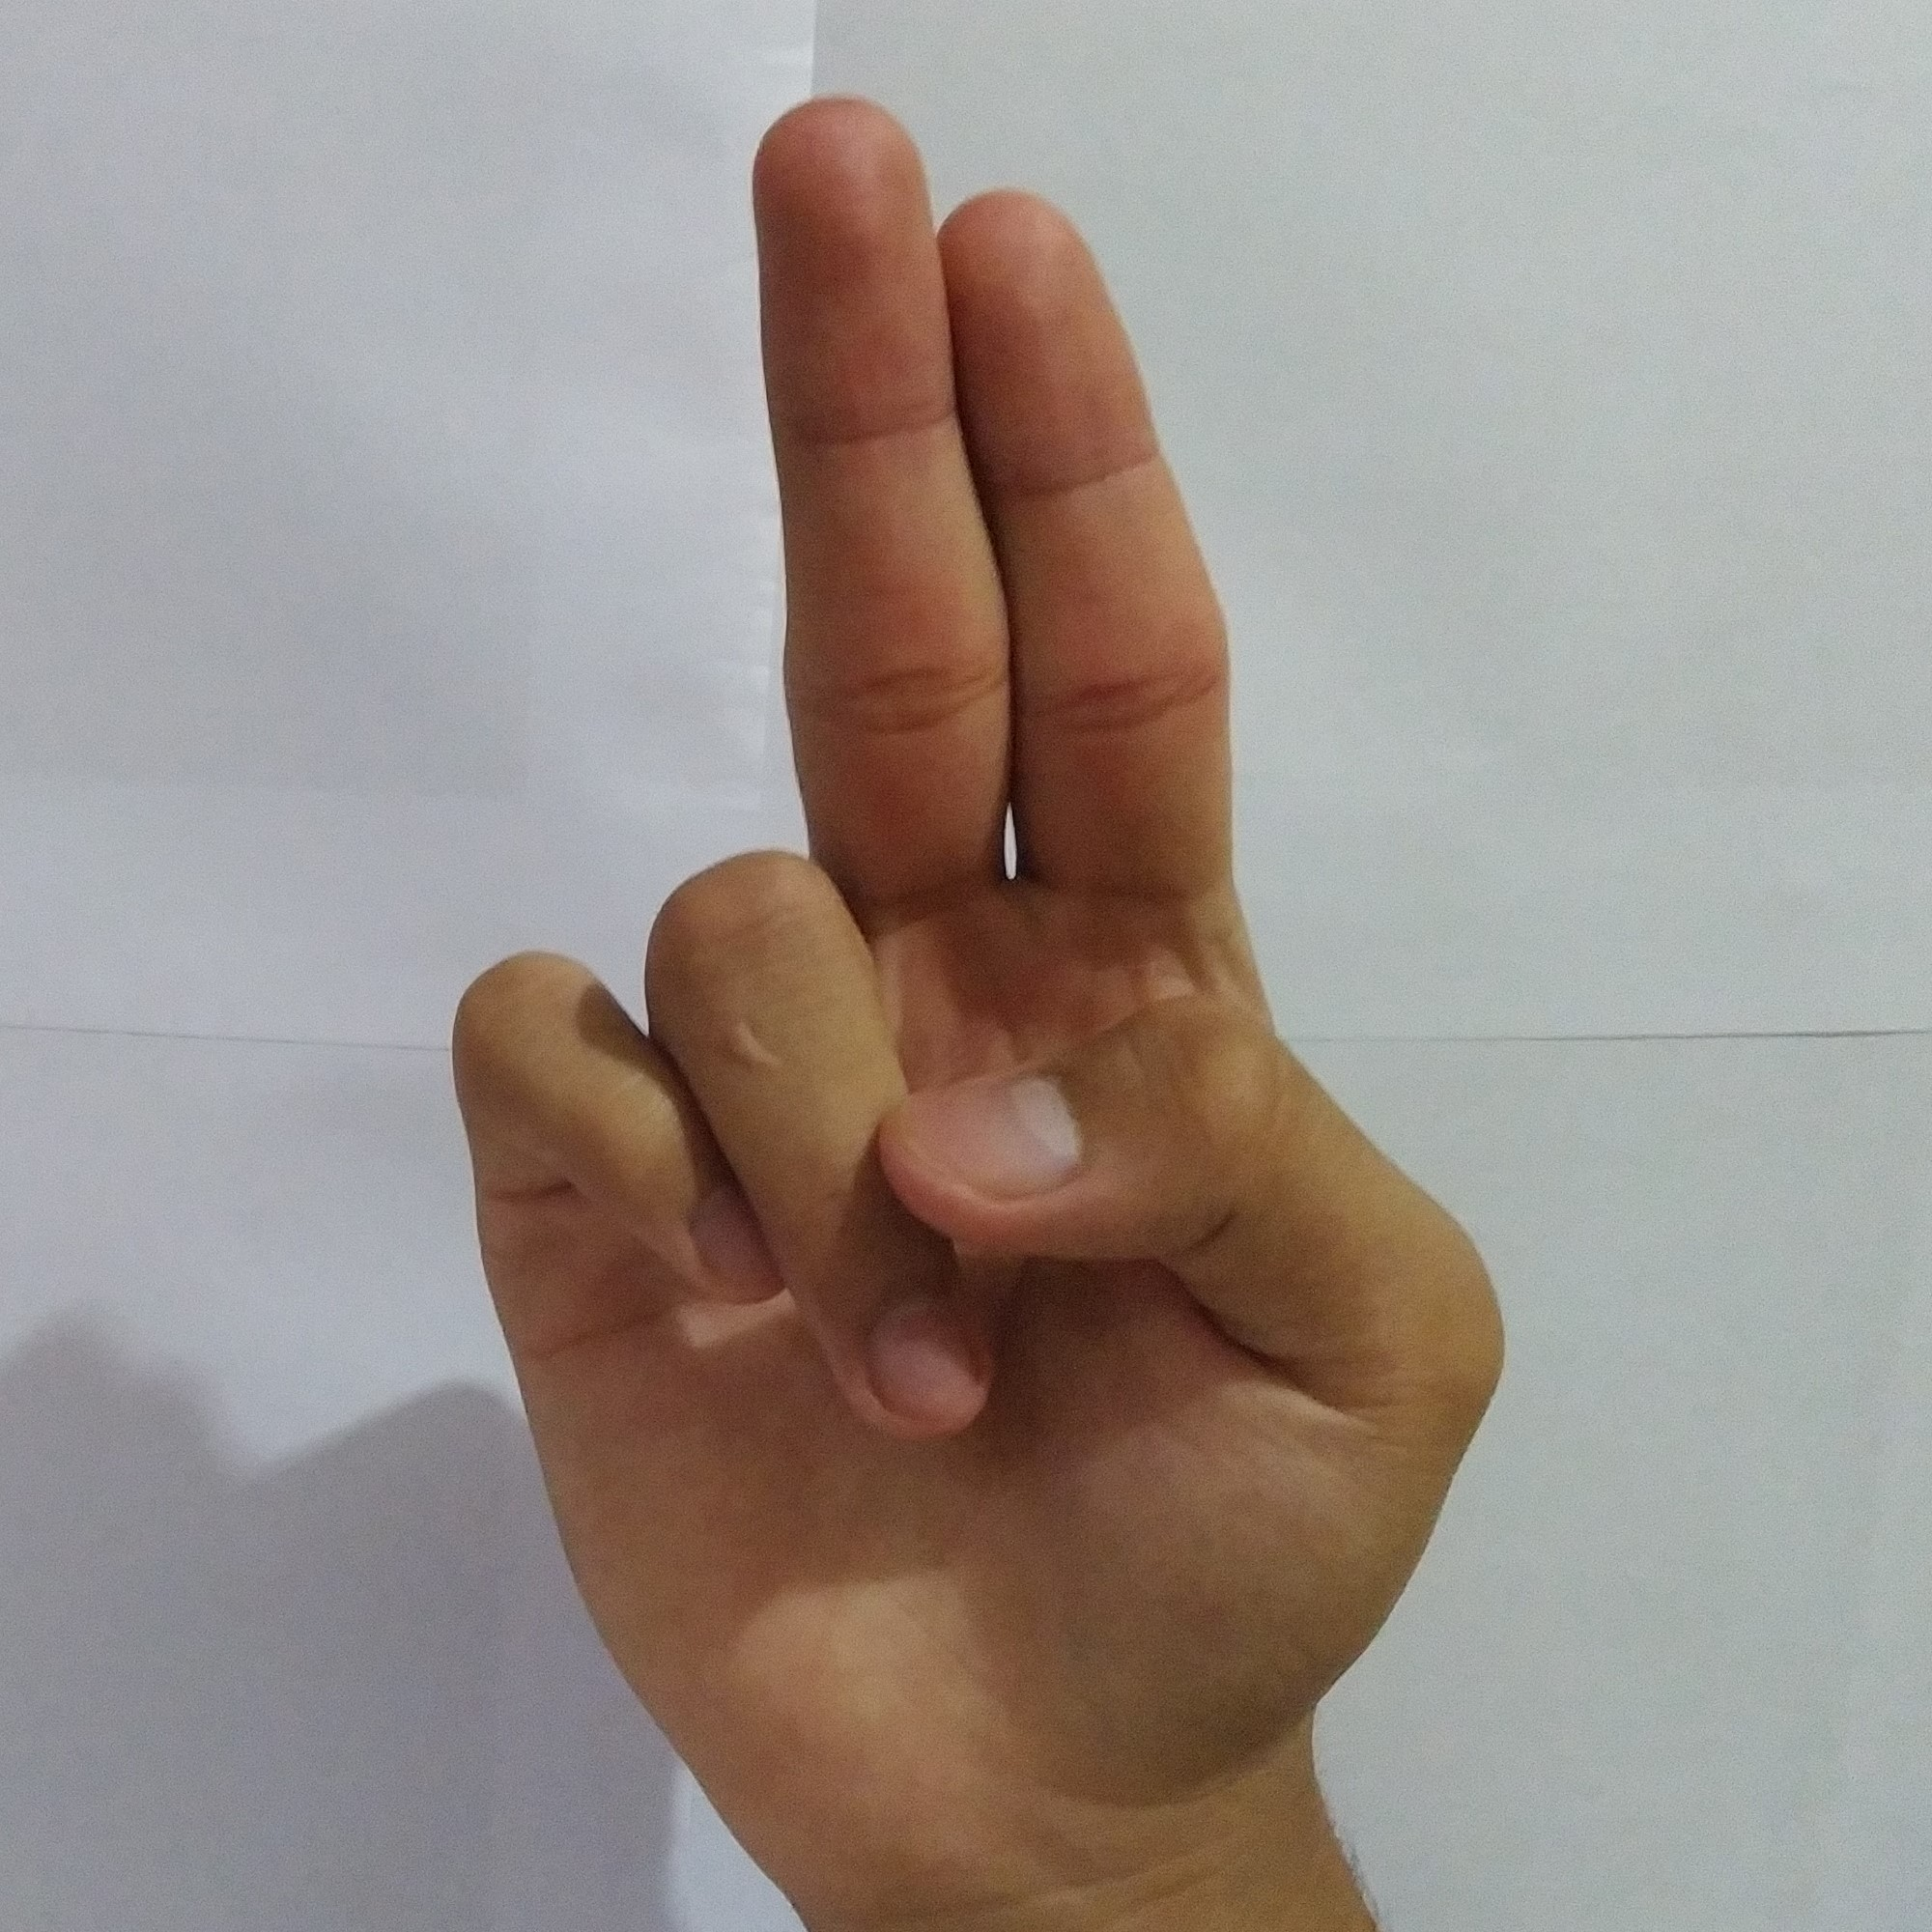U: (412, 62, 1537, 1868)
